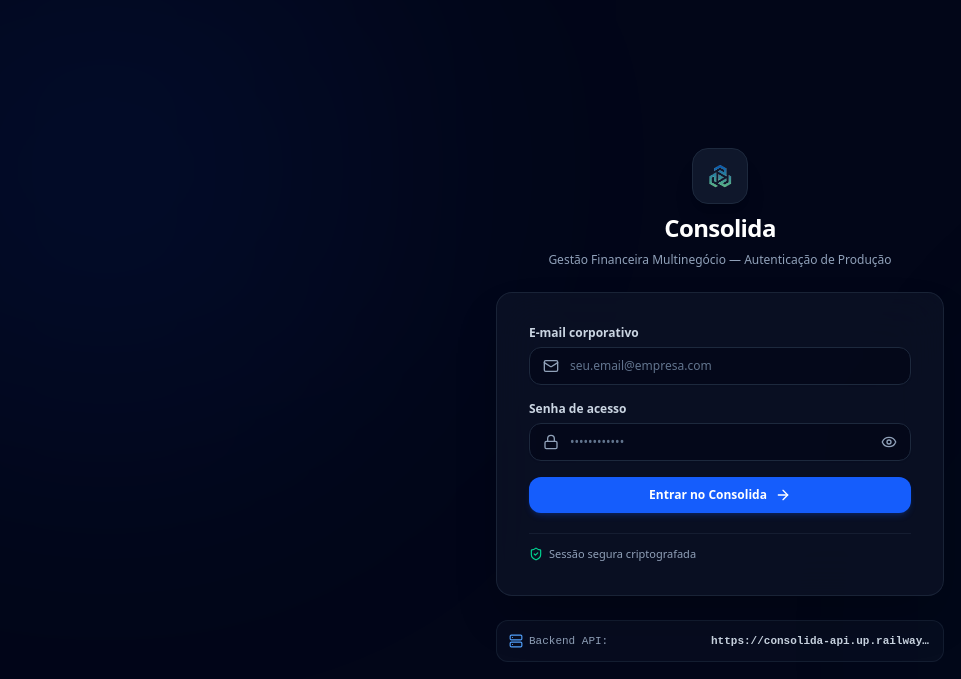
it: Módulo de Autenticação e Sessão (SCRUM-12) › deve alternar a visibilidade da senha entre oculta e visível
Later steps or results of the test are not shown.
Click the button named "Exibir senha" at (896, 442), box left=881, top=423, right=911, bottom=461
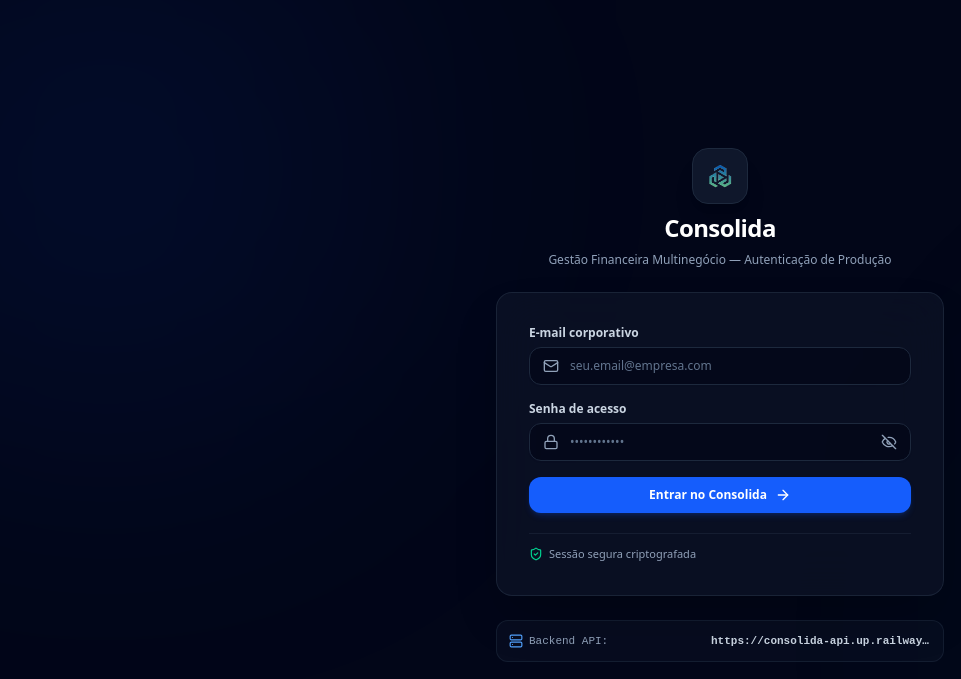
Expected: the button named "Ocultar senha" is shown, left=881, top=423, right=911, bottom=461
